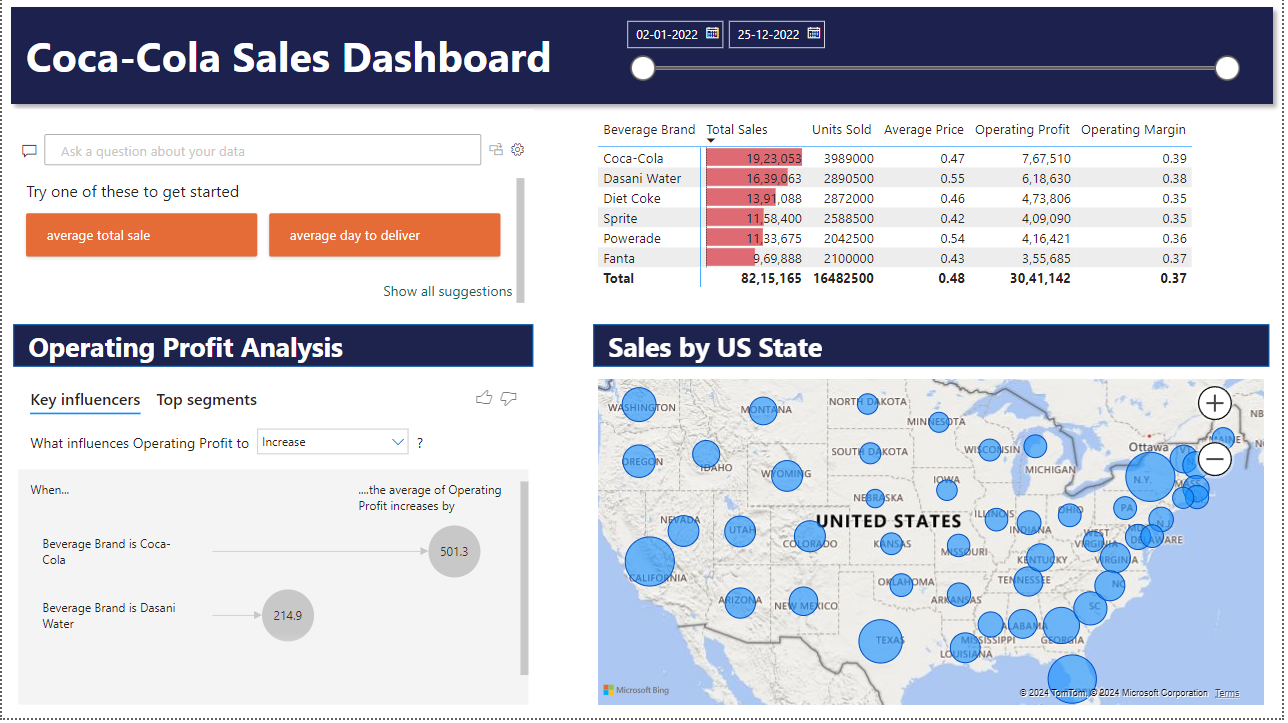

Layout of this report page (visuals, bound fields, positions):
{"tool":"powerbi","page":{"name":"Page 1","canvas":[1280,720],"ordinal":0},"visuals":[{"type":"shape","box":[0,0,1280,115],"z":0},{"type":"qnaVisual","box":[11.2,111.2,520,206.2],"z":3000},{"type":"keyDriversVisual","fields":{"Target":["Data.Operating Profit"],"ExplainBy":["Data.Beverage Brand"]},"box":[11.2,376.2,520,335],"z":4000},{"type":"map","fields":{"Category":["Data.State"],"Size":["Sum(Data.Total Sales)"]},"box":[591.2,376.2,676.2,335],"z":5000},{"type":"pivotTable","fields":{"Rows":["Data.Beverage Brand"],"Values":["Sum(Data.Total Sales)","Sum(Data.Units Sold)","Avg(Data.Price per Unit)","Sum(Data.Operating Profit)","Avg(Data.Operating Margin)"]},"box":[591.2,115,688.8,202.5],"z":6000},{"type":"slicer","fields":{"Values":["Data.Invoice Date"]},"box":[612.5,12.5,633.8,90],"z":7000},{"type":"shape","box":[11.2,326.2,520,42.5],"z":7001},{"type":"shape","box":[591.2,326.2,676.2,42.5],"z":7002}]}

Visuals, with their boxes in screenshot pixels (x1, y1, x2, y2), scaled from the page's 1280x720 canvas onto the 1288x723 screenshot:
shape: region(0, 0, 1287, 115)
qnaVisual: region(11, 112, 535, 319)
keyDriversVisual - Data.Operating Profit x Data.Beverage Brand: region(11, 378, 535, 714)
map - Data.State x Sum(Data.Total Sales): region(595, 378, 1275, 714)
pivotTable - Data.Beverage Brand x Sum(Data.Total Sales): region(595, 115, 1287, 319)
slicer - Data.Invoice Date: region(616, 13, 1254, 103)
shape: region(11, 328, 535, 370)
shape: region(595, 328, 1275, 370)
